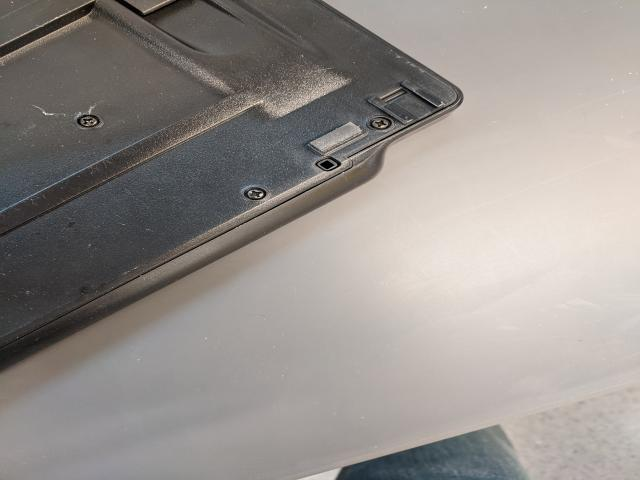CRS: (76, 115, 104, 127), (245, 187, 267, 201), (370, 118, 389, 130)
